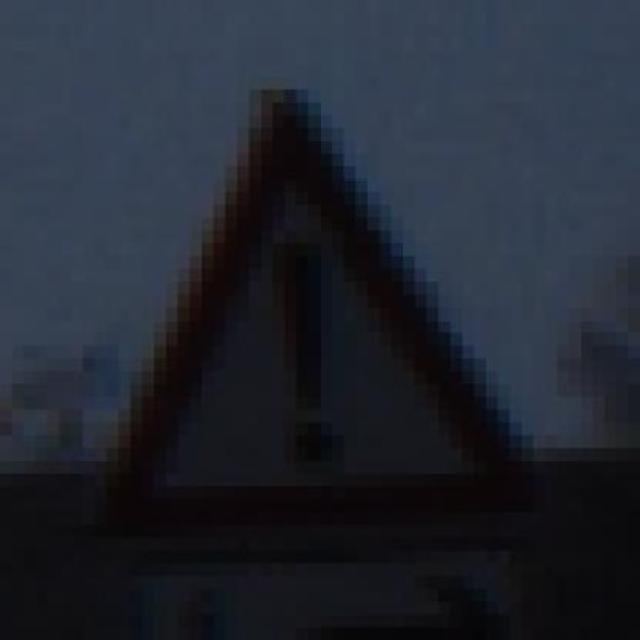Attention Please-: (64, 80, 538, 554)
